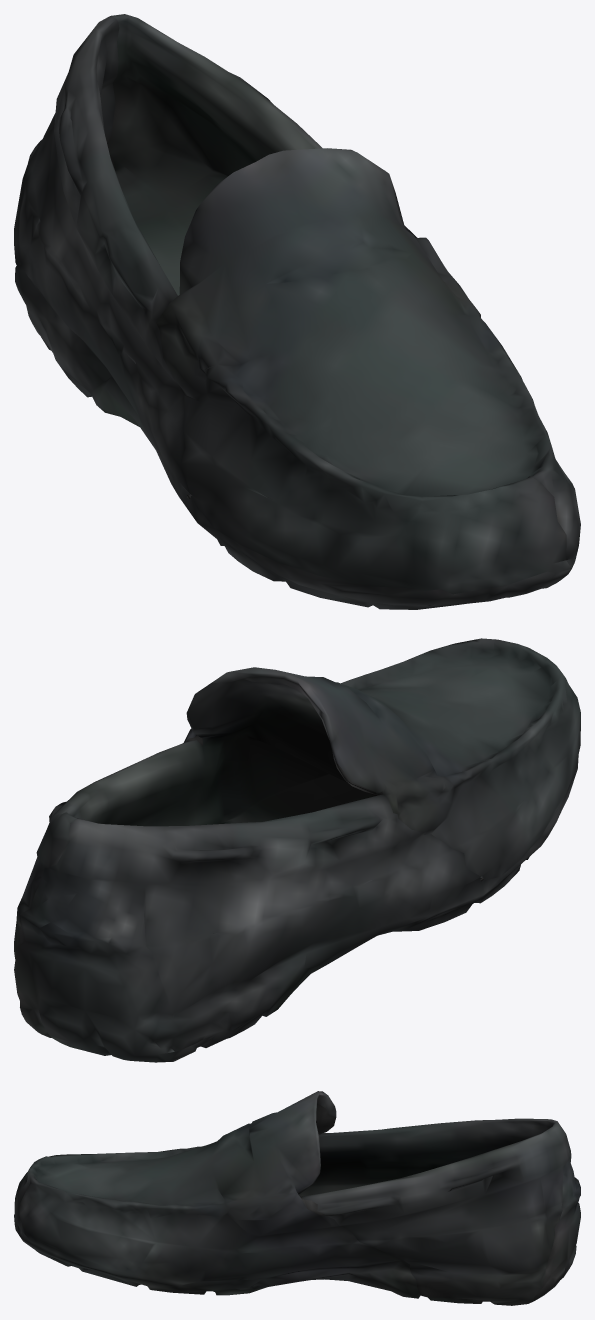
File: Mens_Gold_Cup_ASV_Capetown_Penny_Loafer_in_Black_GkQBKqABeQN-medium.glb
3 views of the same model, one above another, from view 1: azimuth 30°, elevation 25°; view 2: azimuth 150°, elevation 25°; view 3: azimuth 270°, elevation 25° (orthographic). The views are drawn at different scales.
Parts seen in each view (by area): view 1: Mens_Gold_Cup_ASV_Capetown_Penny_Loafer_in_Black_GkQBKqABeQN; view 2: Mens_Gold_Cup_ASV_Capetown_Penny_Loafer_in_Black_GkQBKqABeQN; view 3: Mens_Gold_Cup_ASV_Capetown_Penny_Loafer_in_Black_GkQBKqABeQN.
Part boxes in pixels (x1,y1,x2,y2): Mens_Gold_Cup_ASV_Capetown_Penny_Loafer_in_Black_GkQBKqABeQN: (14,14,580,609); Mens_Gold_Cup_ASV_Capetown_Penny_Loafer_in_Black_GkQBKqABeQN: (14,638,580,1062); Mens_Gold_Cup_ASV_Capetown_Penny_Loafer_in_Black_GkQBKqABeQN: (14,1091,580,1305).
Size of the model in its own units: 0.1032 by 0.1021 by 0.2897.
1 material, 1 textured.
